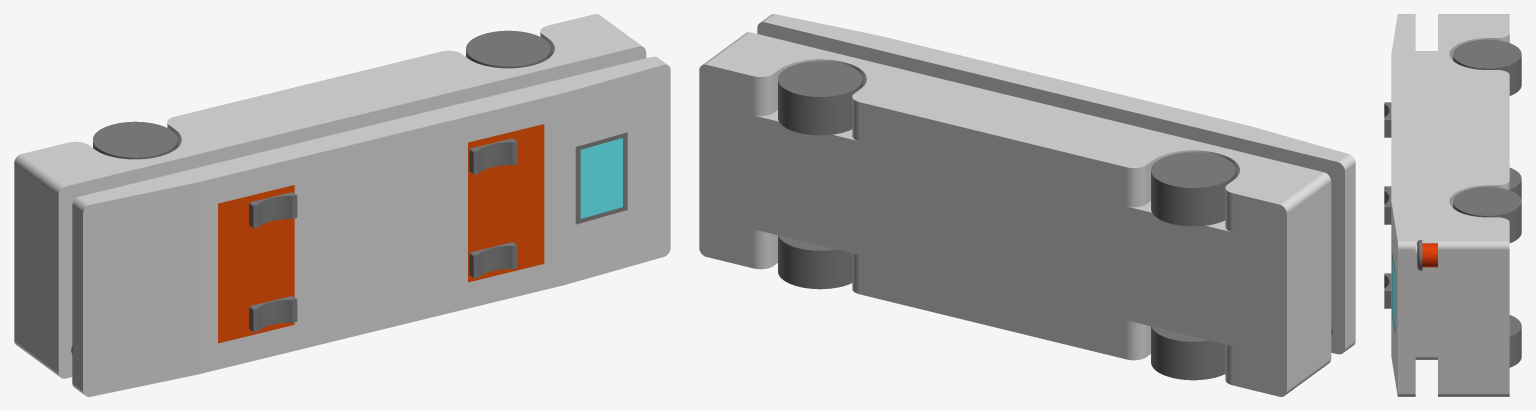
Rendered from car.gltf.
The picture shows the model from 3 angles, left to right: view 1: azimuth 30°, elevation 25°; view 2: azimuth 150°, elevation 25°; view 3: azimuth 270°, elevation 25°; orthographic projection. The views are drawn at different scales.
Visible parts, largest first — view 1: car; view 2: car; view 3: car.
Part boxes in pixels (bbox=[...]): car: bbox=[14, 14, 670, 396]; car: bbox=[699, 14, 1355, 396]; car: bbox=[1384, 14, 1521, 396].
Bounding box in the file's own units: 1.6 × 0.5 × 0.4.
